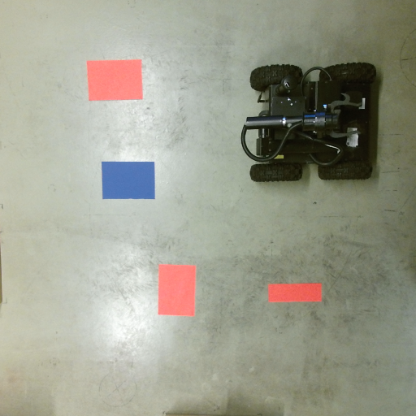Blue: (100, 160, 157, 200)
Jaguar: (240, 62, 377, 184)
Red: (85, 59, 144, 100), (156, 262, 196, 317), (269, 284, 322, 302)
